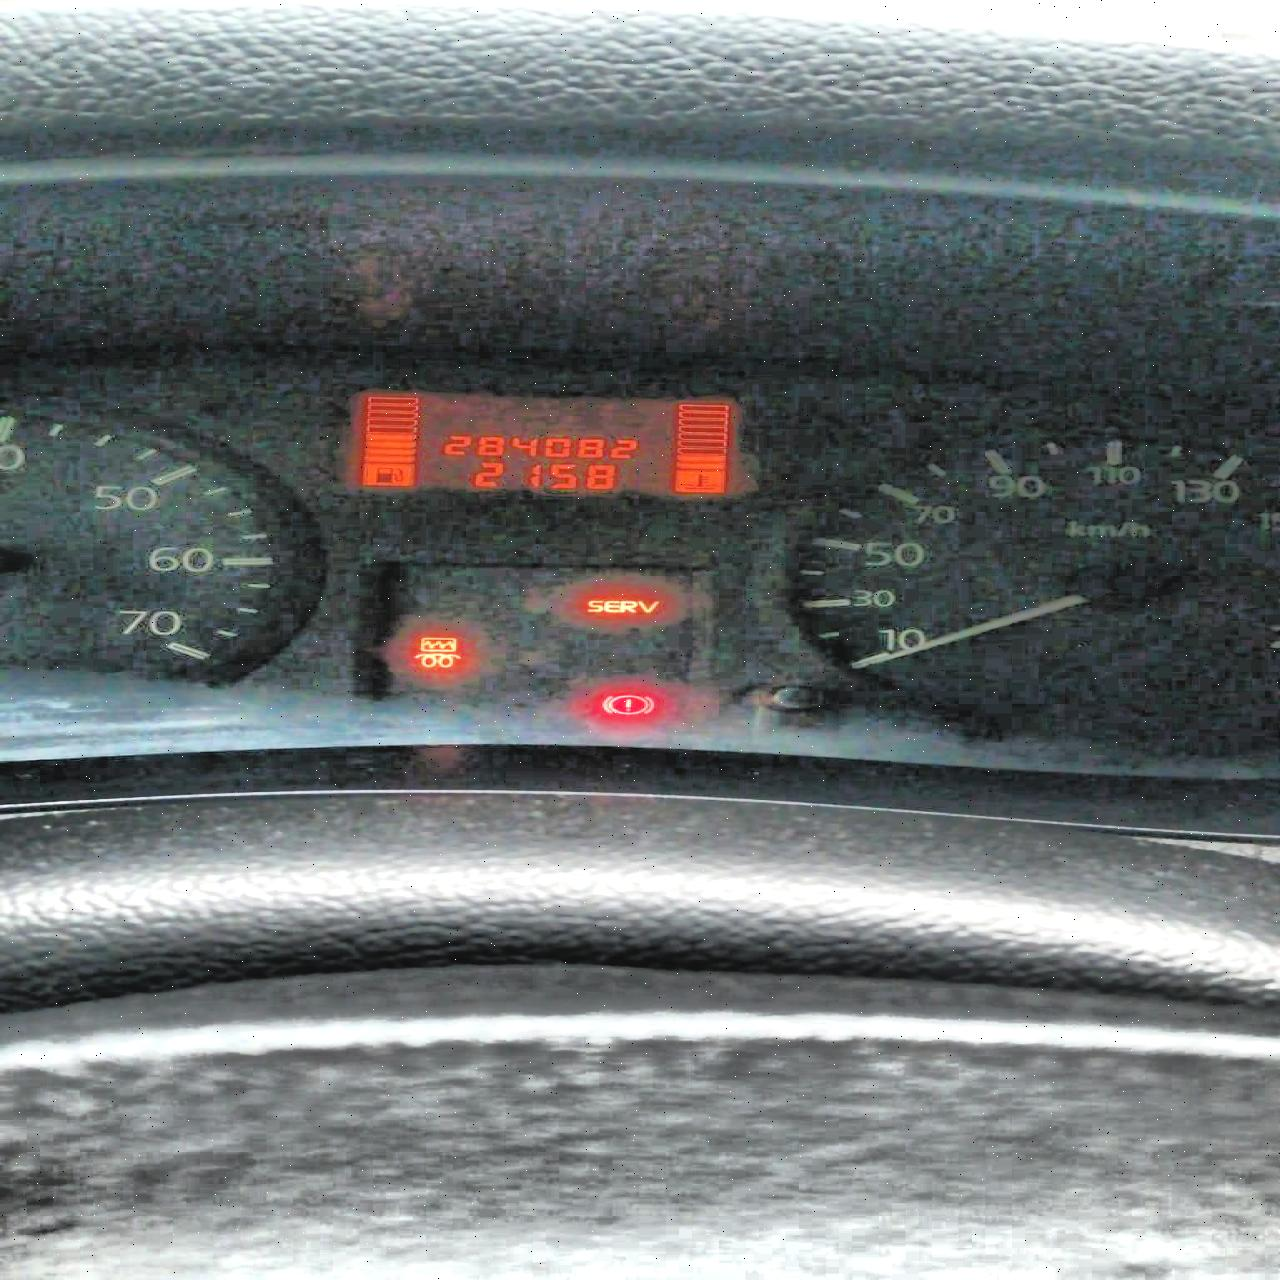0: (543, 437, 570, 456)
1: (527, 464, 542, 486)
2: (471, 462, 501, 485), (441, 435, 471, 455), (607, 440, 635, 458)
4: (509, 437, 536, 456)
5: (547, 463, 577, 488)
8: (584, 464, 614, 489), (574, 438, 602, 457), (476, 436, 503, 455)
odometer: (338, 384, 747, 497)
